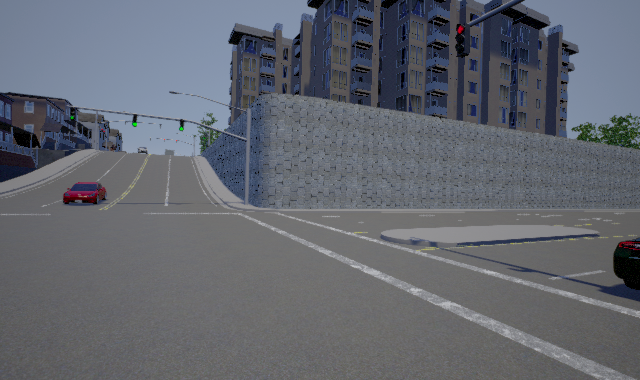traffic_light: (455, 23, 470, 58), (70, 107, 76, 121), (179, 119, 184, 132), (132, 114, 137, 127), (202, 134, 207, 141)
vehicle: (613, 237, 640, 290), (63, 182, 107, 205)
